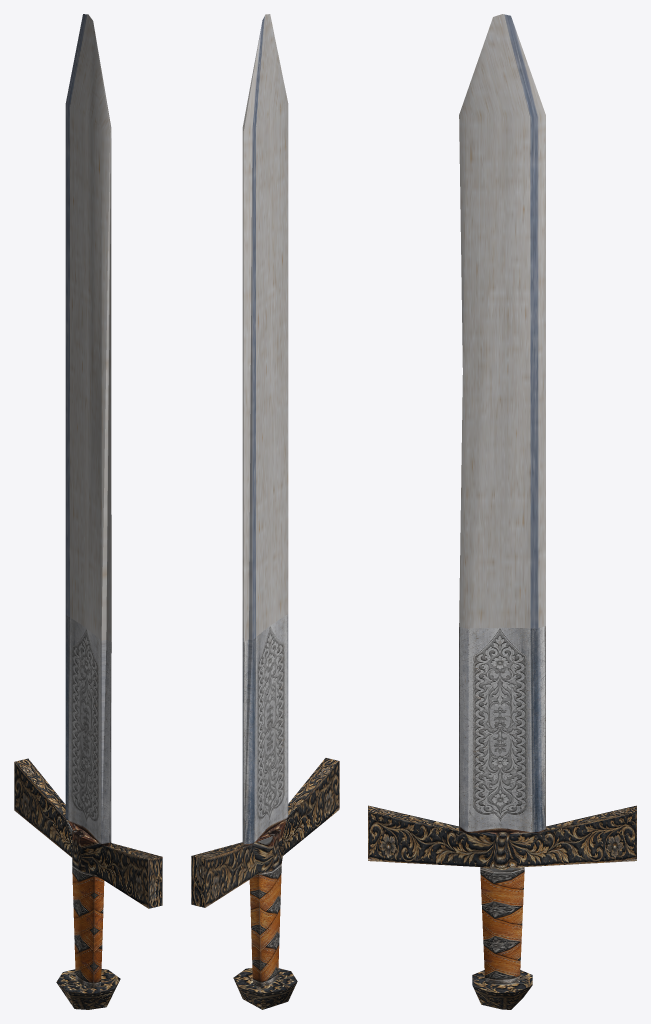
Rendered from mm9_deco_broadsword.glb.
The picture shows the model from 3 angles, left to right: view 1: azimuth 30°, elevation 25°; view 2: azimuth 150°, elevation 25°; view 3: azimuth 270°, elevation 25°; orthographic projection.
Parts seen in each view (by area): view 1: Broadsword; view 2: Broadsword; view 3: Broadsword.
Part boxes in pixels (x1,y1,x2,y2): Broadsword: (14,14,162,1009); Broadsword: (191,14,339,1009); Broadsword: (368,14,636,1009).
Bounding box in the file's own units: 0.0489 × 0.8947 × 0.2189.
1 material, 1 textured.
